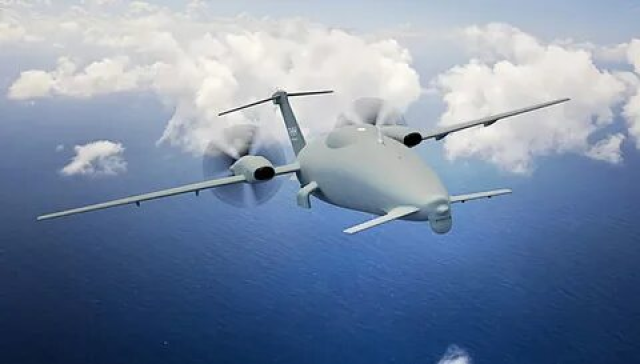military drone: (36, 89, 571, 234)
